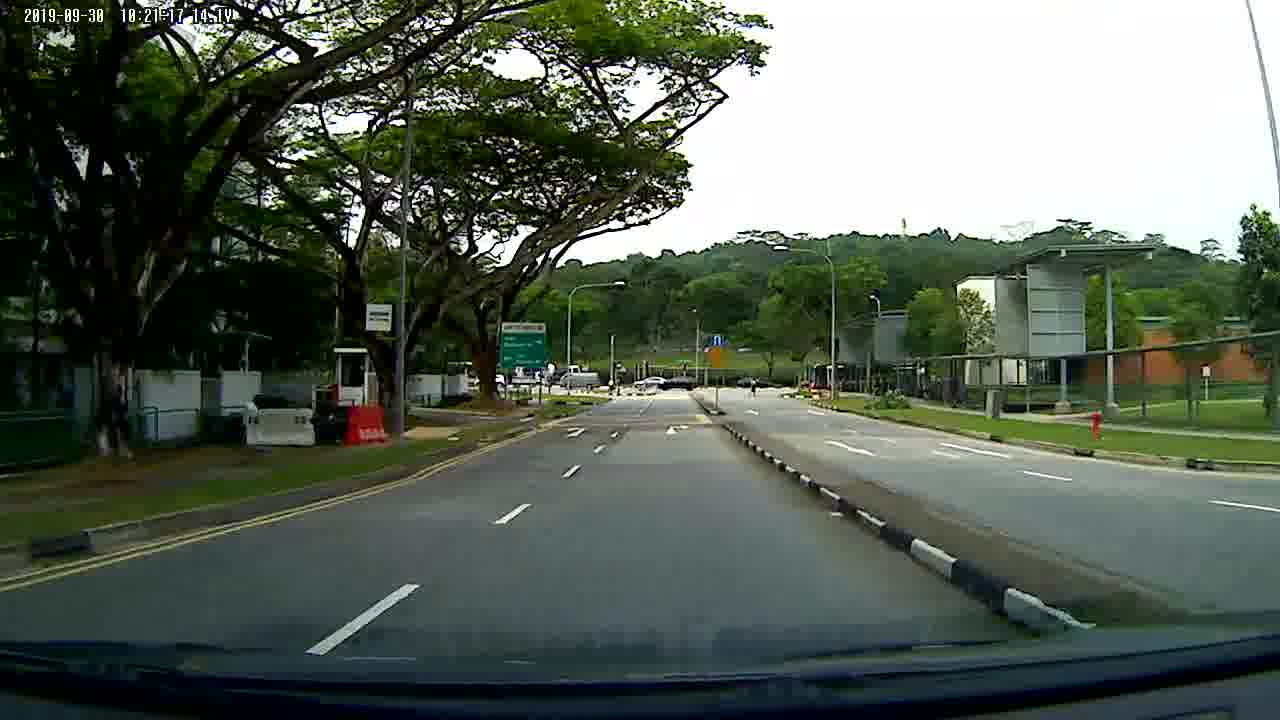car: (629, 374, 665, 392)
